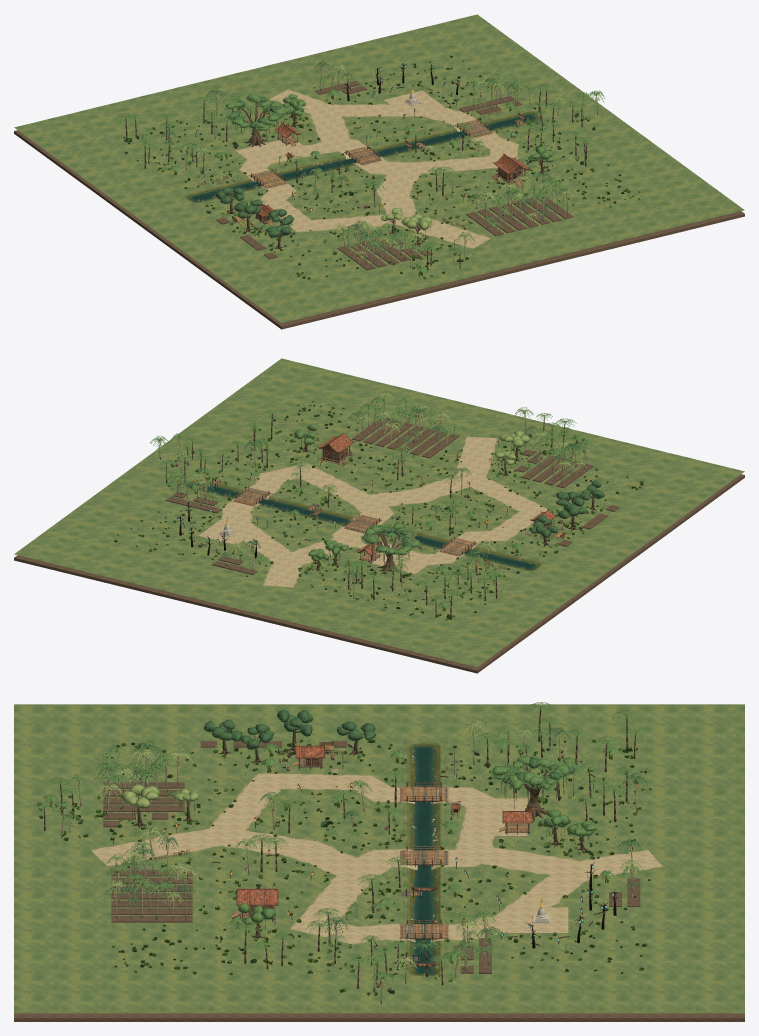
File: old-orchard.glb
3 renders of one model, top to bottom at view 1: azimuth 30°, elevation 25°; view 2: azimuth 150°, elevation 25°; view 3: azimuth 270°, elevation 25°, orthographic. The views are drawn at different scales.
Parts seen in each view (by area): view 1: Ground - varied meadow | grass, Tracks - worn earth | path, Soil foundation | earth, Raised orchard beds | earth, Organic tree foliage | real bushes, Feathered road shoulders | path_edge, Palm feather leaflets | leaf2, Areca slender trunks | arecatrunk2, Water surface | water, Areca pinnate fronds | leaf2, Areca pinnate fronds | leaf4, Areca pinnate fronds | leaf3 (+12 smaller); view 2: Ground - varied meadow | grass, Tracks - worn earth | path, Soil foundation | earth, Raised orchard beds | earth, Organic tree foliage | real bushes, Feathered road shoulders | path_edge, Palm feather leaflets | leaf2, Areca slender trunks | arecatrunk2, Water surface | water, Areca pinnate fronds | leaf2, Palm feather leaflets | leaf4, Curved palm trunks | trunk (+10 smaller); view 3: Ground - varied meadow | grass, Tracks - worn earth | path, Organic tree foliage | real bushes, Raised orchard beds | earth, Soil foundation | earth, Feathered road shoulders | path_edge, Palm feather leaflets | leaf2, Water surface | water, Areca slender trunks | arecatrunk2, Areca pinnate fronds | leaf2, Areca pinnate fronds | leaf3, Palm feather leaflets | leaf4 (+26 smaller).
Boxes of the visible parts, <box> form: Ground - varied meadow | grass: <box>14,14,744,323</box>; Tracks - worn earth | path: <box>242,90,516,247</box>; Soil foundation | earth: <box>14,130,744,329</box>; Raised orchard beds | earth: <box>216,80,573,270</box>; Organic tree foliage | real bushes: <box>123,55,640,279</box>; Feathered road shoulders | path_edge: <box>239,89,518,248</box>; Palm feather leaflets | leaf2: <box>114,79,595,256</box>; Areca slender trunks | arecatrunk2: <box>156,66,597,267</box>; Water surface | water: <box>189,114,535,201</box>; Areca pinnate fronds | leaf2: <box>179,70,590,251</box>; Areca pinnate fronds | leaf4: <box>326,72,604,254</box>; Areca pinnate fronds | leaf3: <box>193,63,573,246</box>; Ground - varied meadow | grass: <box>14,358,744,667</box>; Tracks - worn earth | path: <box>224,436,546,587</box>; Soil foundation | earth: <box>14,474,744,673</box>; Raised orchard beds | earth: <box>165,417,619,574</box>; Organic tree foliage | real bushes: <box>114,401,643,620</box>; Feathered road shoulders | path_edge: <box>221,436,547,587</box>; Palm feather leaflets | leaf2: <box>159,409,578,603</box>; Areca slender trunks | arecatrunk2: <box>159,397,586,598</box>; Water surface | water: <box>189,482,536,569</box>; Areca pinnate fronds | leaf2: <box>164,396,591,574</box>; Palm feather leaflets | leaf4: <box>160,410,574,602</box>; Curved palm trunks | trunk: <box>166,413,565,617</box>; Ground - varied meadow | grass: <box>14,704,744,1013</box>; Tracks - worn earth | path: <box>93,775,661,942</box>; Organic tree foliage | real bushes: <box>36,738,651,995</box>; Raised orchard beds | earth: <box>103,741,640,973</box>; Soil foundation | earth: <box>14,1013,744,1021</box>; Feathered road shoulders | path_edge: <box>91,773,662,944</box>; Palm feather leaflets | leaf2: <box>33,702,646,968</box>; Water surface | water: <box>413,746,434,974</box>; Areca slender trunks | arecatrunk2: <box>61,728,637,1004</box>; Areca pinnate fronds | leaf2: <box>52,725,585,967</box>; Areca pinnate fronds | leaf3: <box>95,719,643,973</box>; Palm feather leaflets | leaf4: <box>34,702,646,966</box>.
Size of the model in its own units: 180 by 17.12 by 180.
58 materials, 58 textured.
